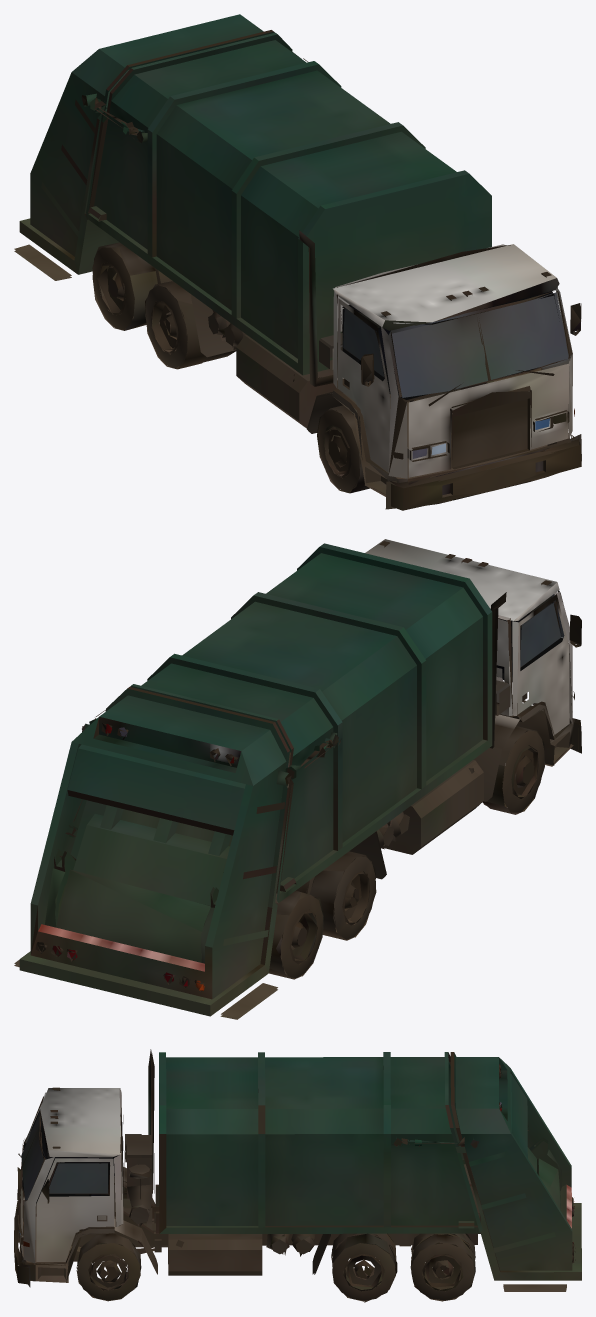
Rendered from pack-garbage-truck-L2.glb.
3 views of the same model, one above another, from view 1: azimuth 30°, elevation 25°; view 2: azimuth 150°, elevation 25°; view 3: azimuth 270°, elevation 25° (orthographic). The views are drawn at different scales.
Visible parts, largest first — view 1: body; view 2: body; view 3: body.
Boxes of the visible parts, bbox=[...] form: body: bbox=[14, 14, 581, 510]; body: bbox=[14, 539, 581, 1019]; body: bbox=[14, 1049, 581, 1302].
Size of the model in its own units: 2.6 by 2.82 by 7.66.
1 material, 1 textured.
